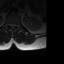CCS_normal: (11, 22, 13, 29)
LFS_normal: (15, 23, 17, 28)
LLS_normal: (13, 22, 15, 28)
RFS_normal: (8, 22, 10, 27)
RLS_normal: (10, 22, 11, 28)
